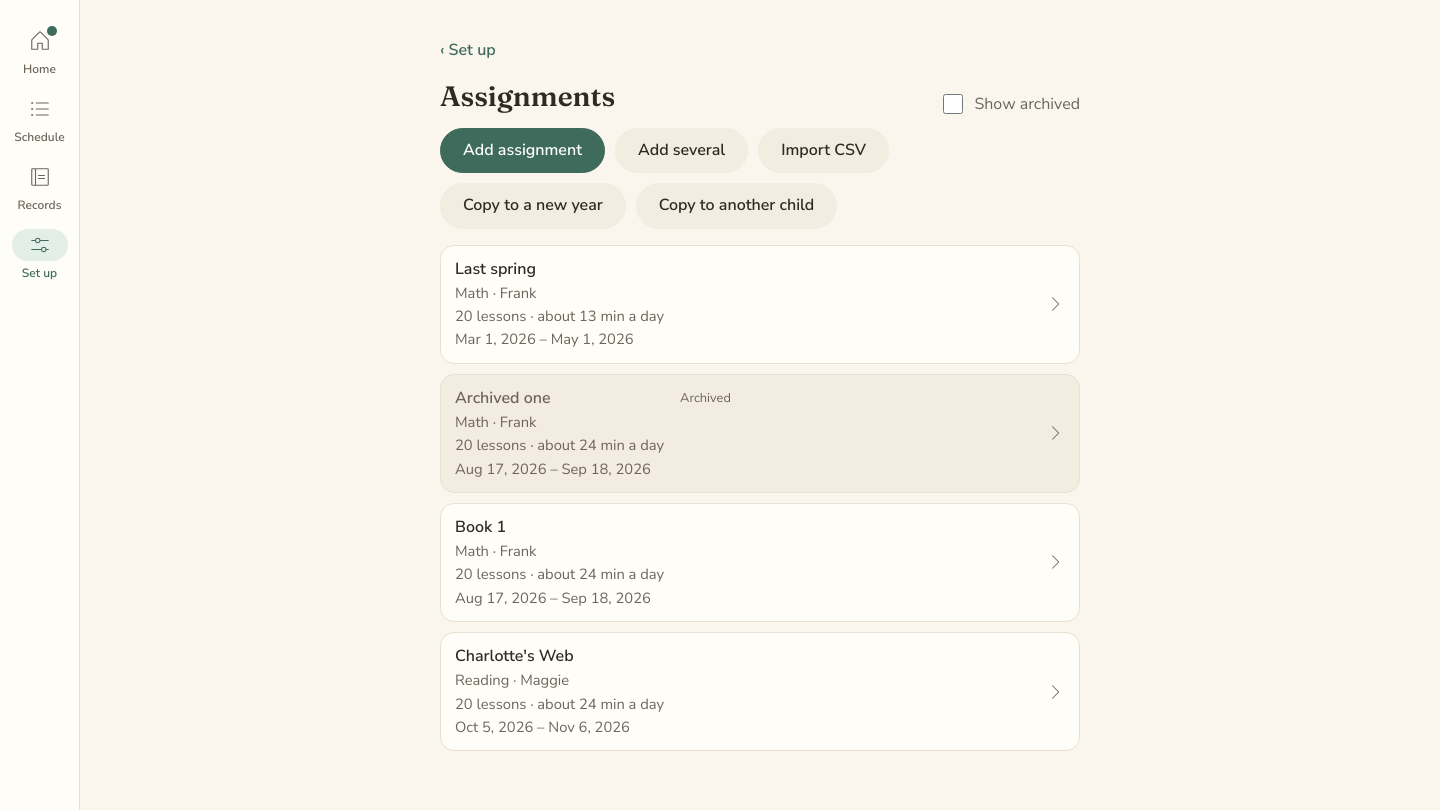
Test: Copy to a new year (S7-01) › lists active assignments starting on or after the first day, all ticked, grouped by child, with their new dates
Expected: the list named "Assignments" is shown, [440,245,1080,751]
Click the button "Copy to a new year" at (533, 206), box [440,183,626,229]
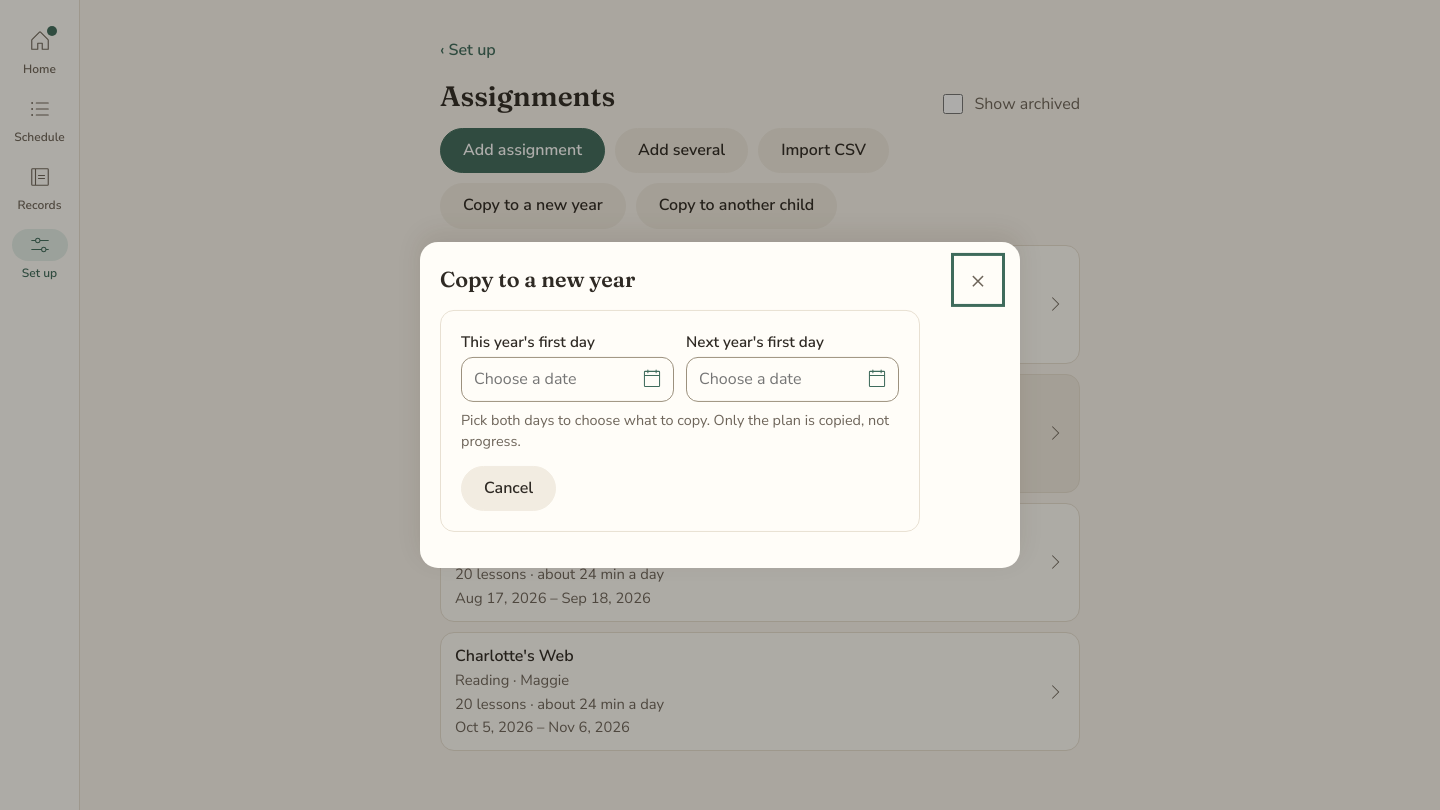
Type "2026-08-17" into the field labelled "This year's first day" at (568, 380), box [461,357,674,402]
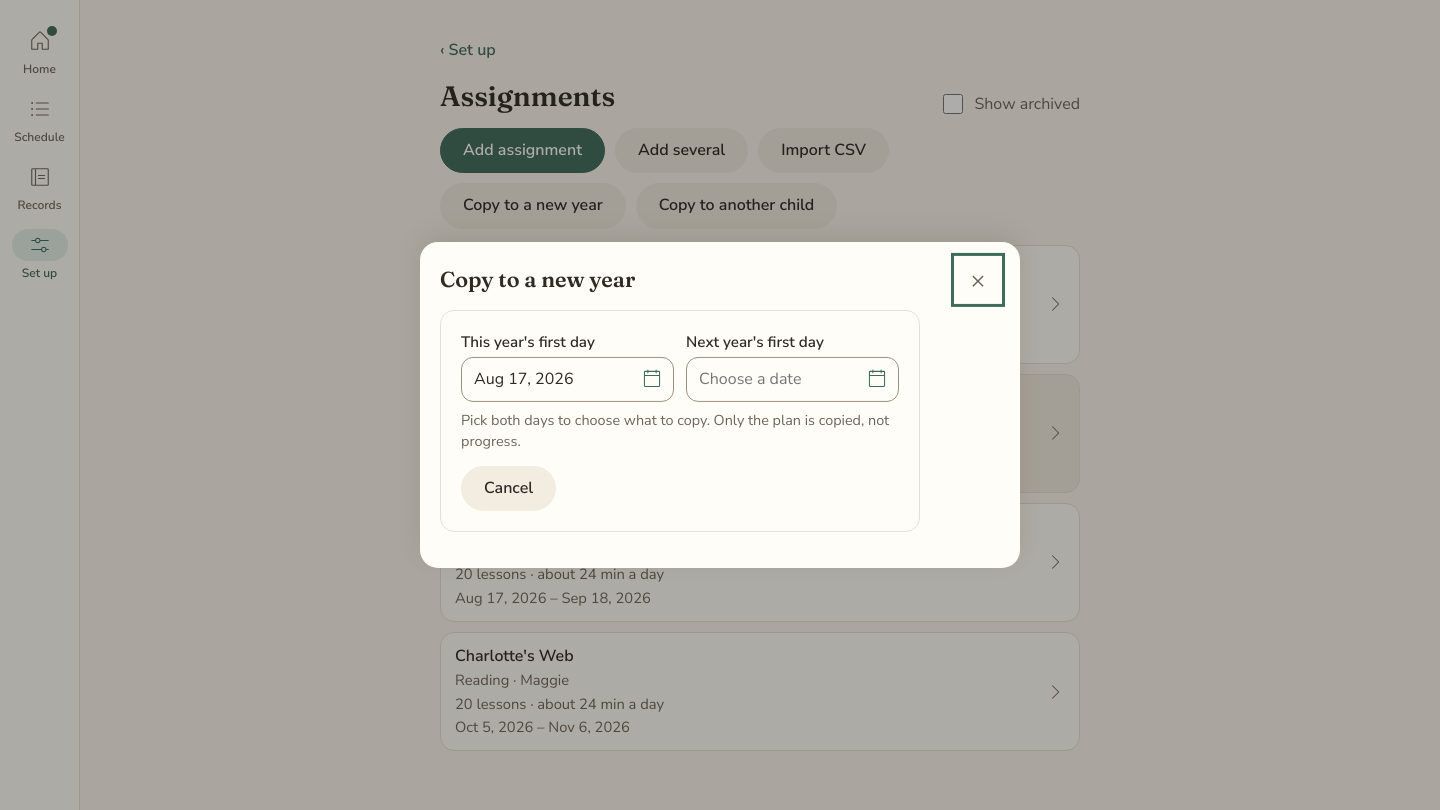
Type "2027-08-16" into the field labelled "Next year's first day" at (792, 380), box [686,357,899,402]
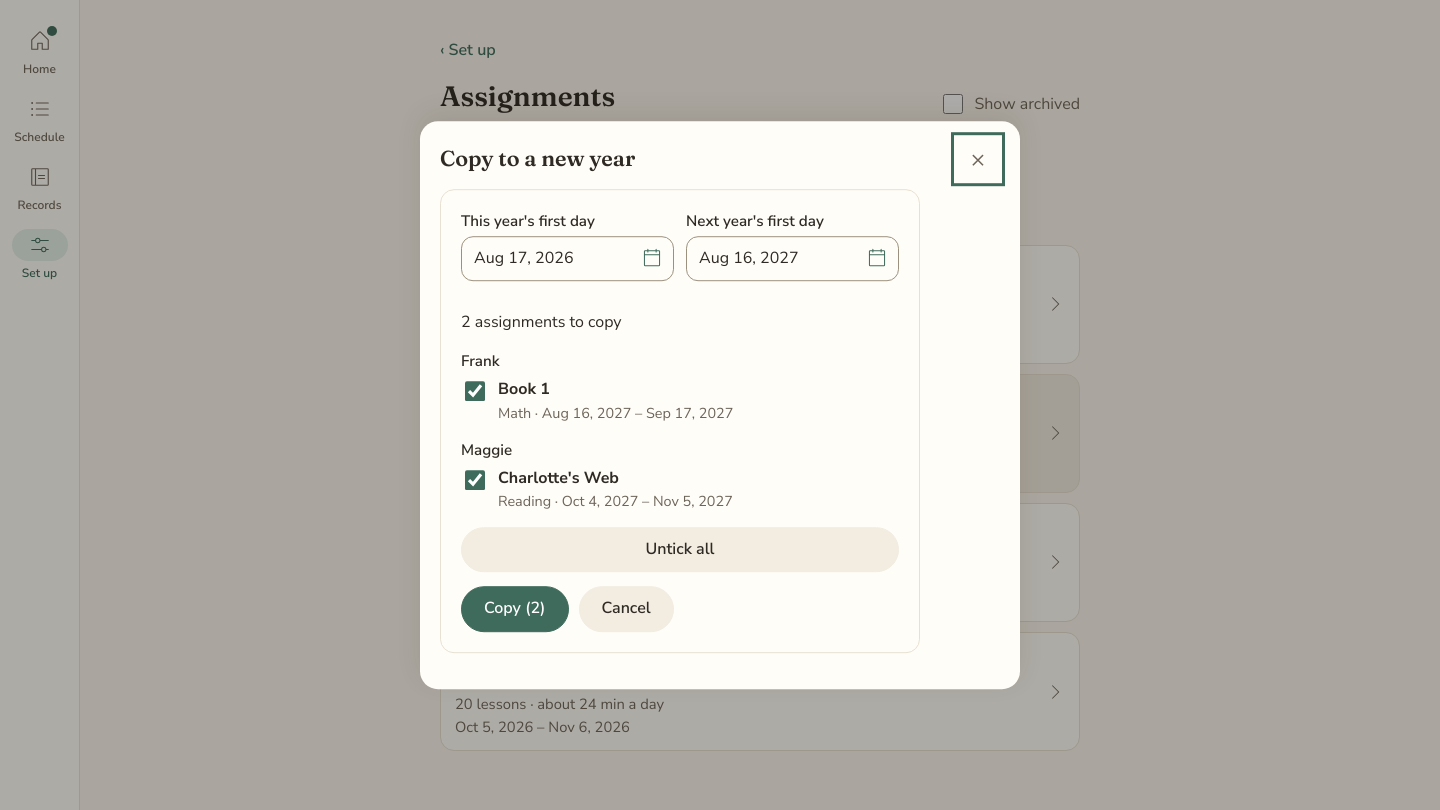
Result: the checkbox labelled "Book 1Math · Aug 16, 2027 – Sep 17, 2027" is checked at [465,382,485,402]
Result: the 2nd checkbox is checked at [465,470,485,490]
Result: the element "Frank" shows "Book 1" at [498,379,550,401]
